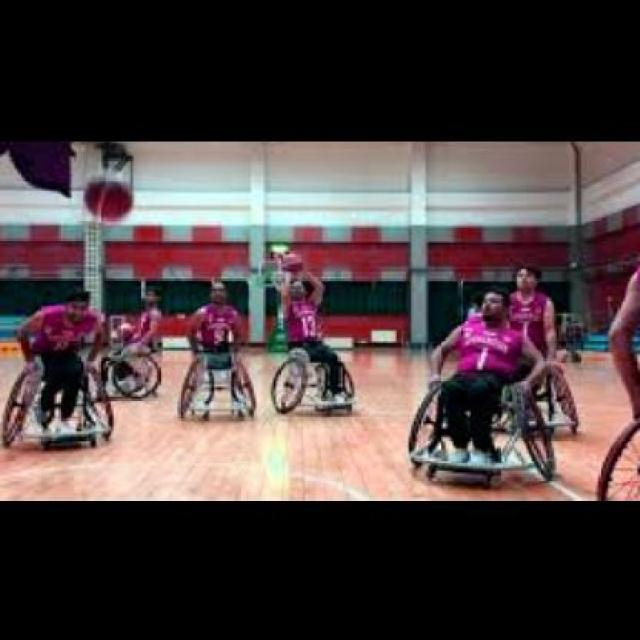wheelchairs: (401, 371, 555, 480), (0, 352, 122, 459), (186, 346, 256, 440), (268, 346, 361, 414), (509, 354, 590, 430), (101, 336, 170, 405)
